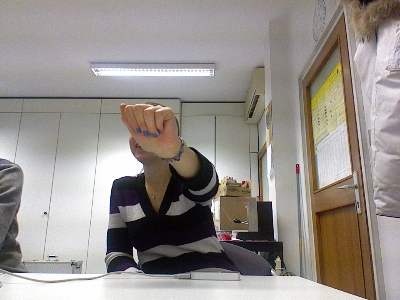石头: (116, 99, 182, 158)
